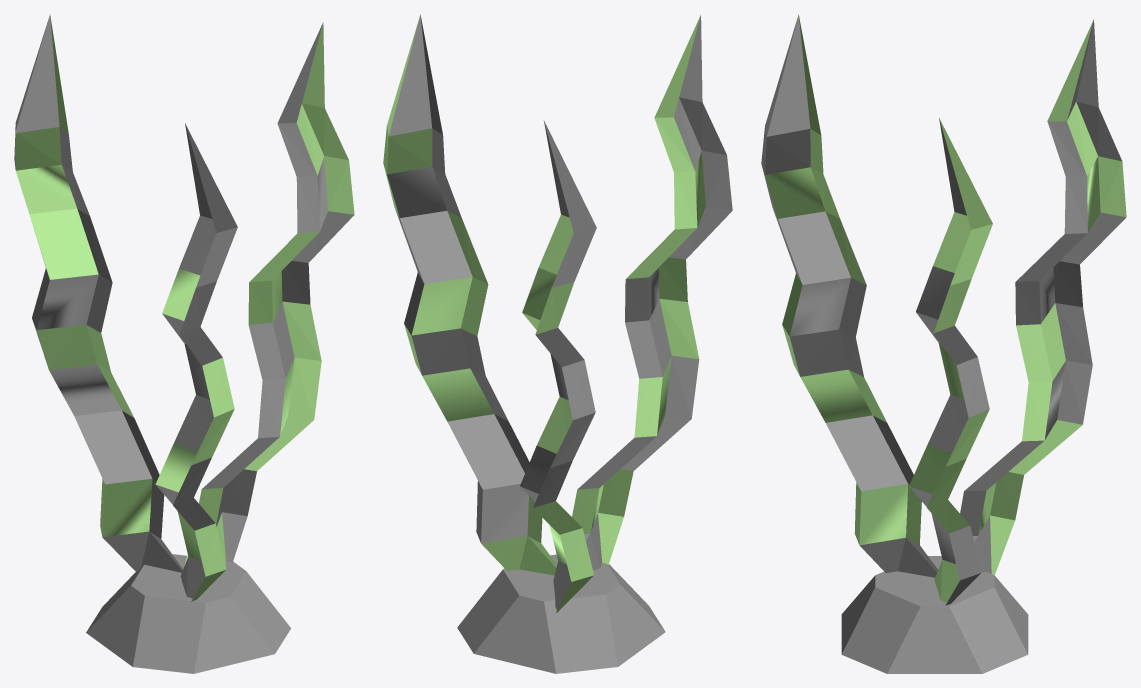
The model's file is Plant.FBX.
3 views of the same model, side by side, from view 1: azimuth 30°, elevation 25°; view 2: azimuth 150°, elevation 25°; view 3: azimuth 270°, elevation 25° (orthographic).
Parts seen in each view (by area): view 1: Plant; view 2: Plant; view 3: Plant.
Boxes of the visible parts, box(x1,y1,x2,y2) form: Plant: box(14, 14, 354, 673); Plant: box(383, 14, 732, 673); Plant: box(761, 14, 1126, 673).
Size of the model in its own units: 39.42 by 80.62 by 44.97.
